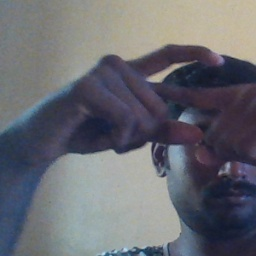E: (114, 37, 231, 153)
